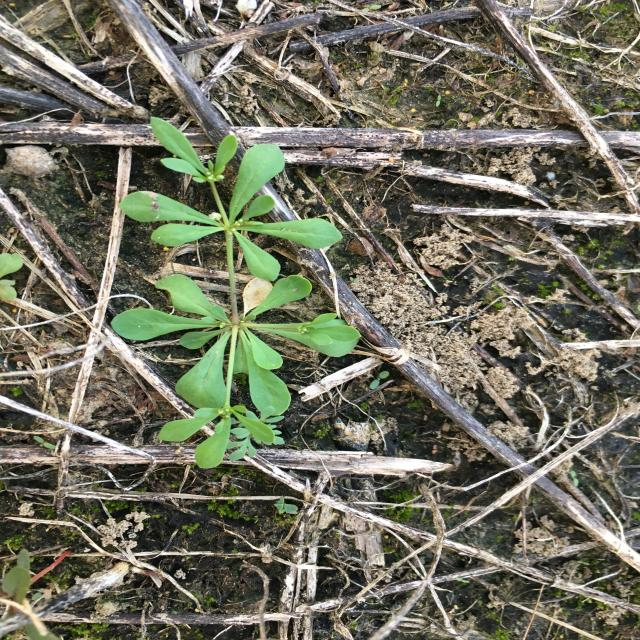Carpetweed: (108, 114, 362, 471)
